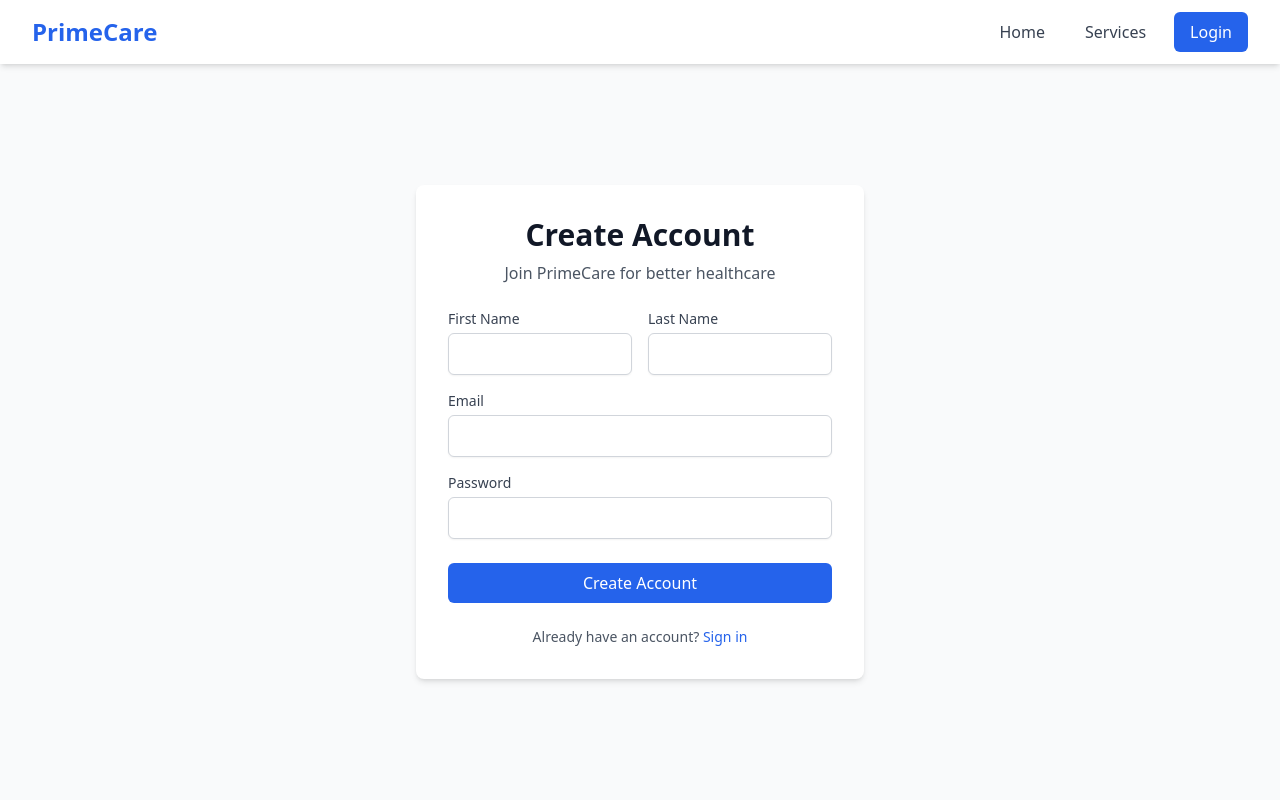
it: Register Page › shows validation error for short password
This screenshot has width=1280, height=800.
Type "Test" into the field named "first_name" at (540, 354), box [448,333,632,375]
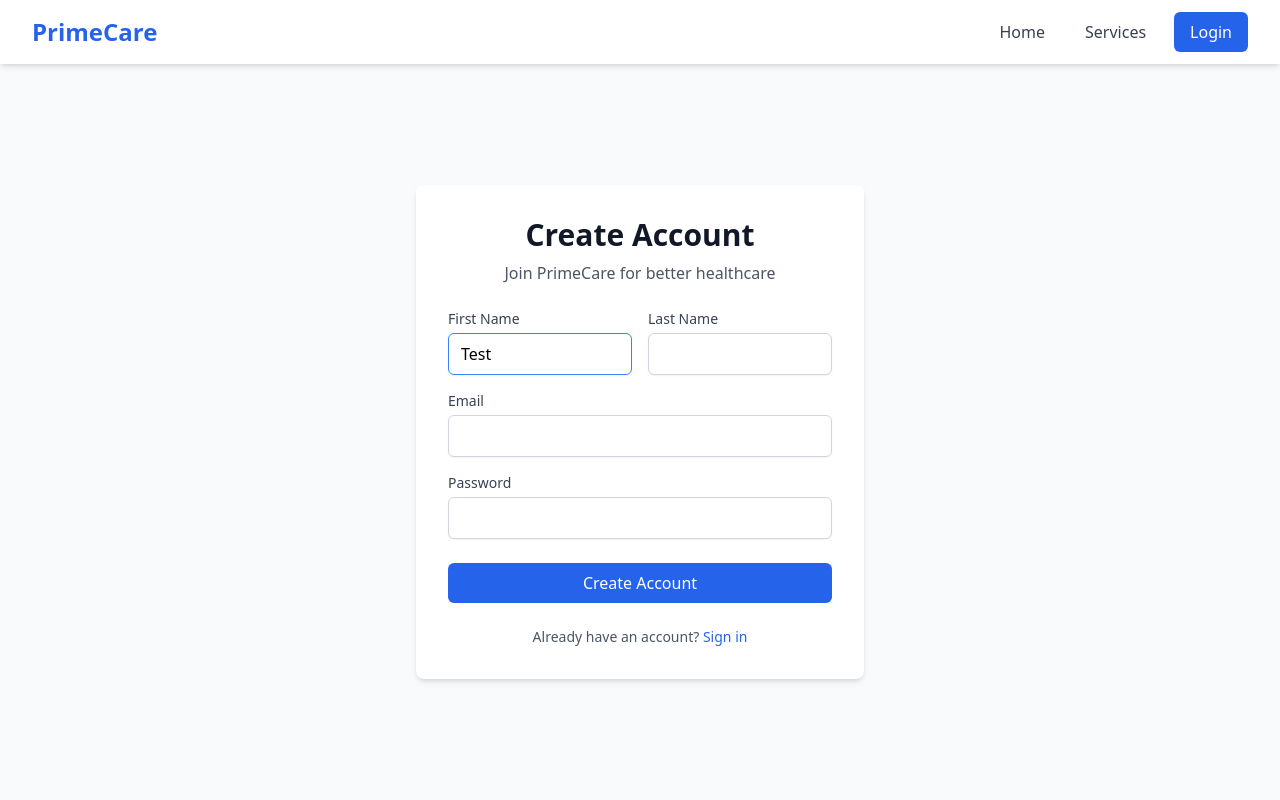
Type "User" into the field named "last_name" at (740, 354), box [648,333,832,375]
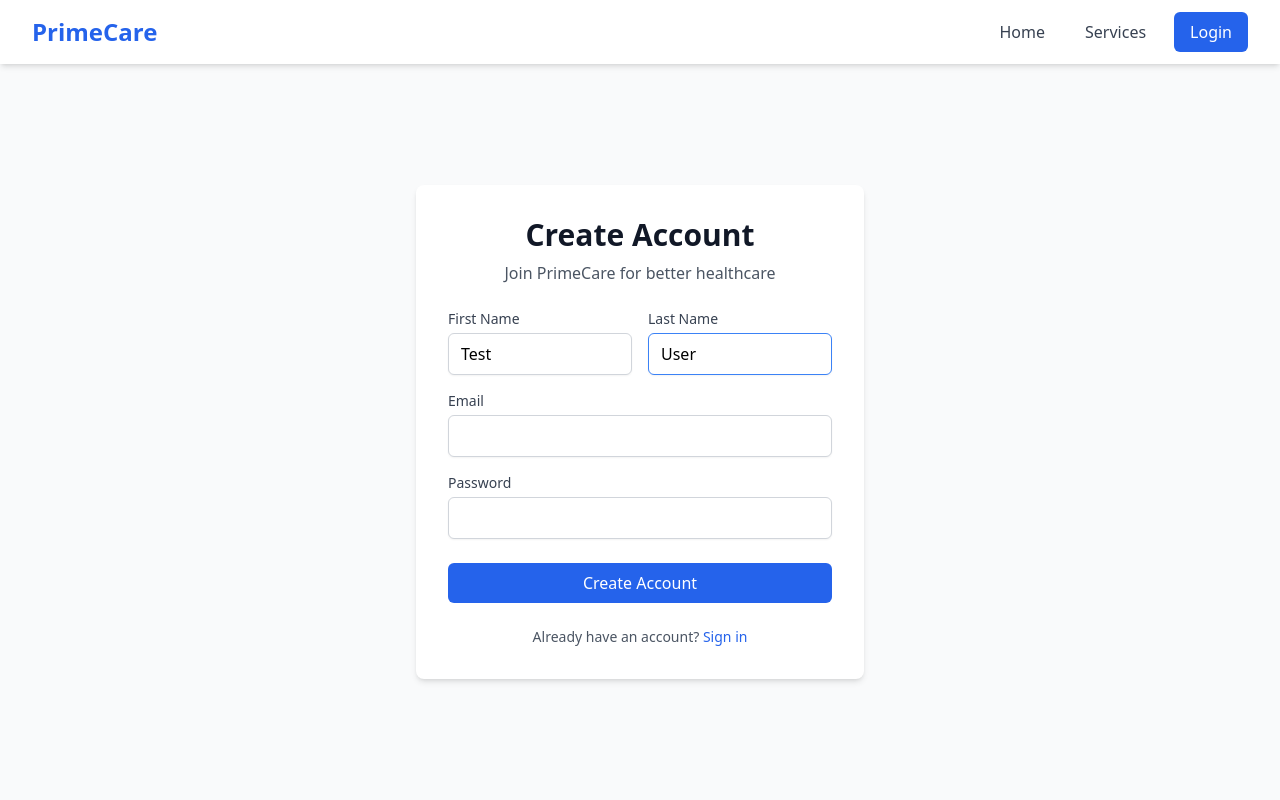
Type "shortpass@test.com" into the field named "email" at (640, 436), box [448,415,832,457]
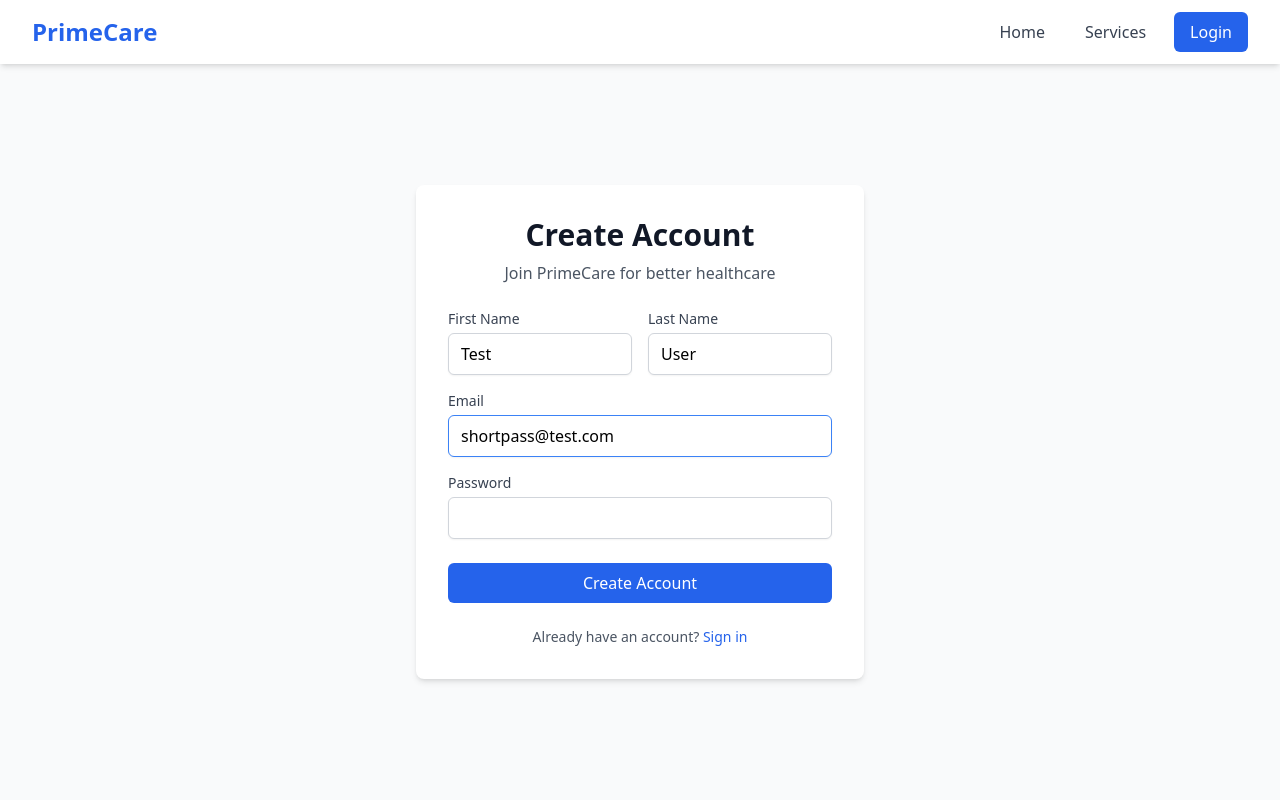
Type "123" into the password field named "password" at (640, 518), box [448,497,832,539]
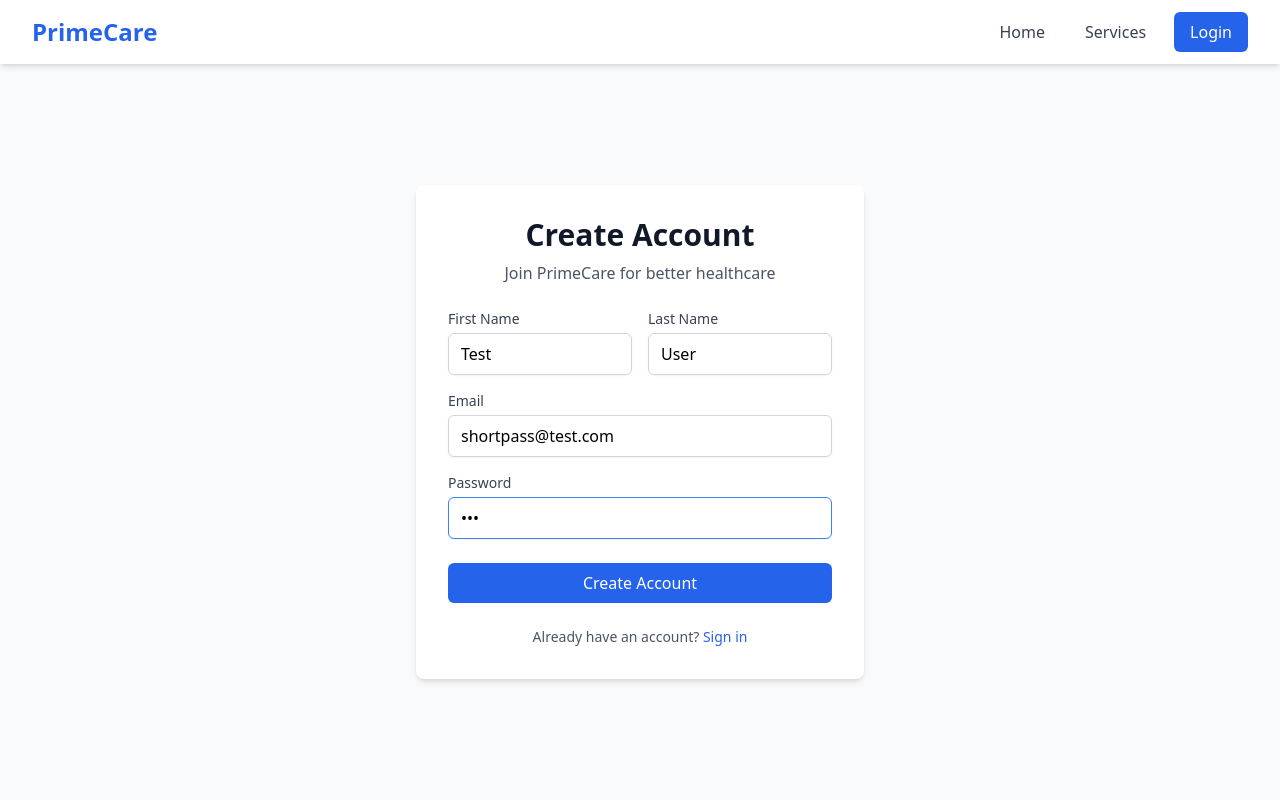
Click the submit button at (640, 583), box [448,563,832,603]
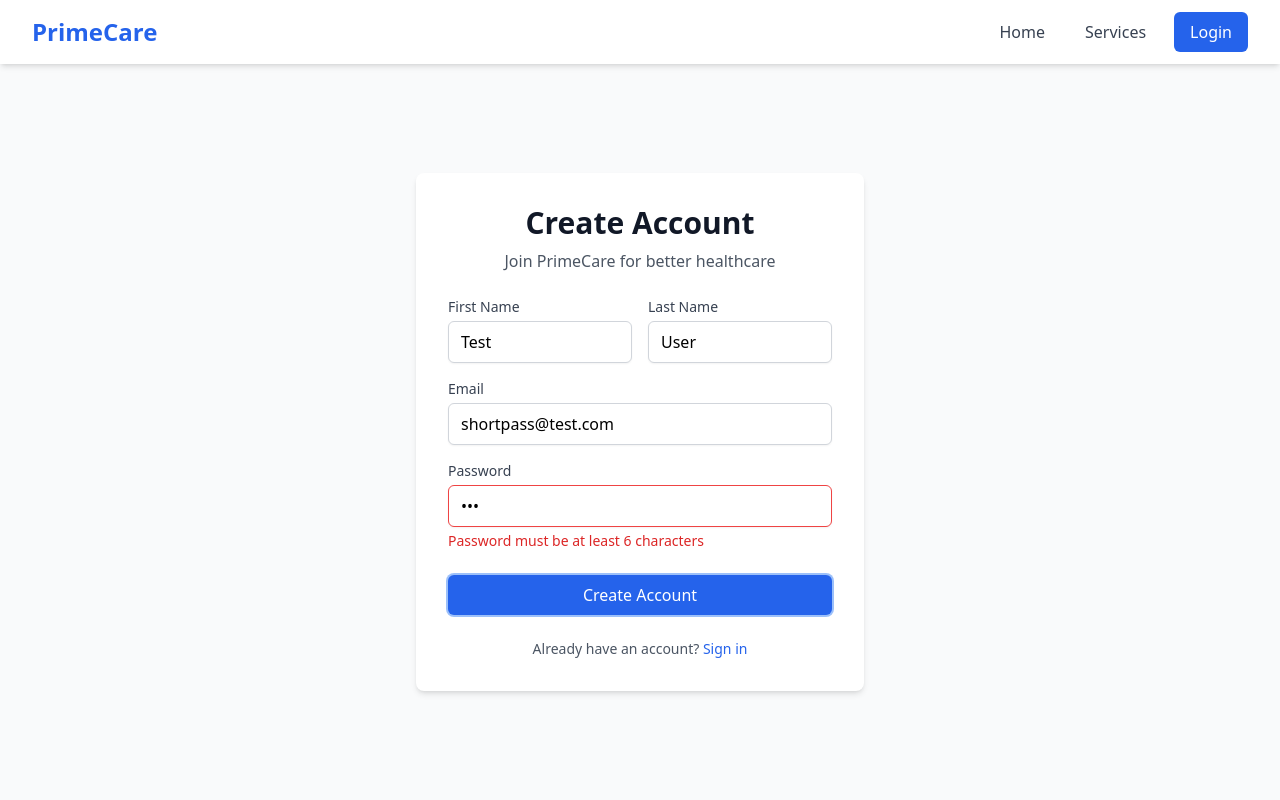
Expected: the text "Password must be at least 6 characters" is shown, [448,531,704,550]
